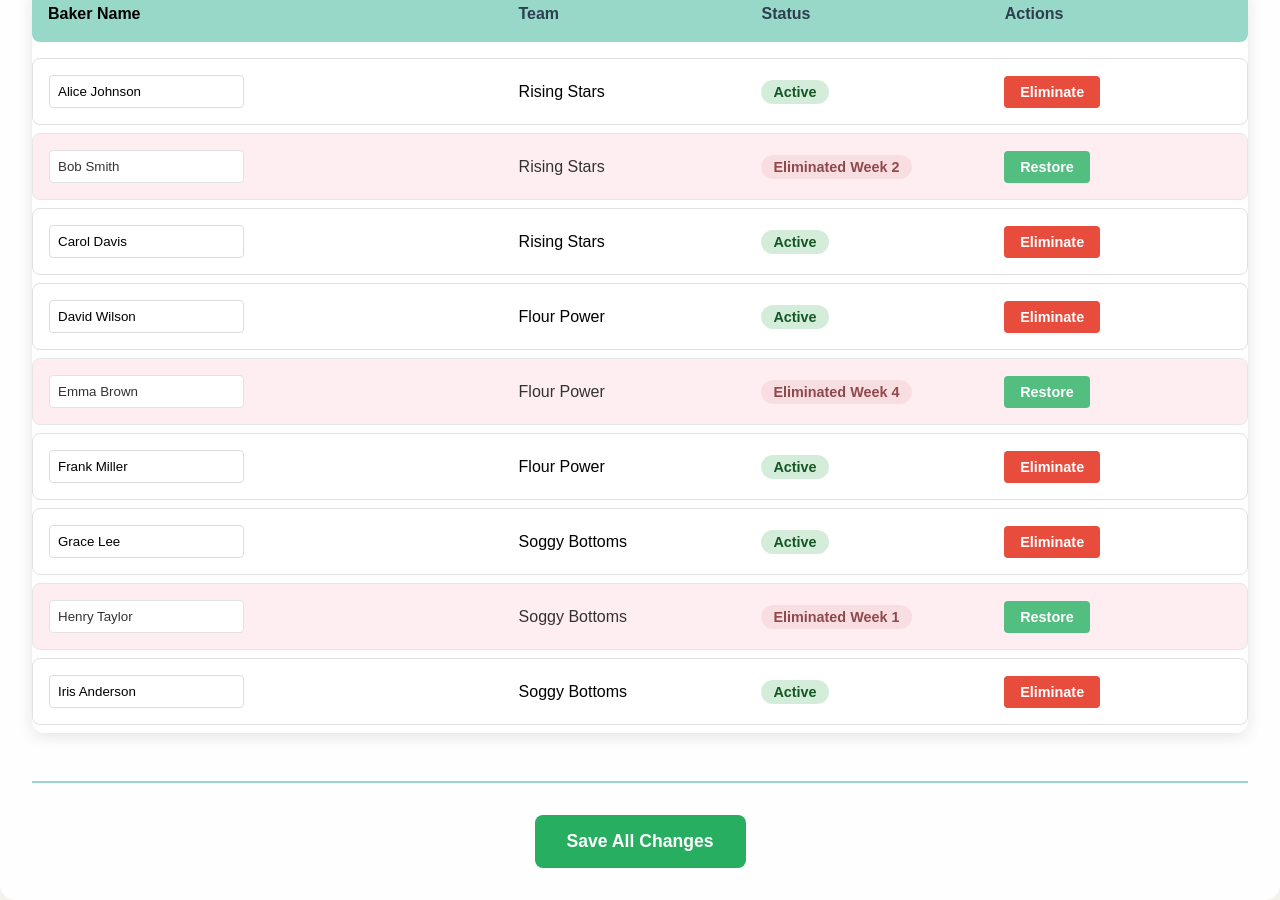
Test: TeamManagement Component › Data Persistence and Save Operations › should show loading state during save operation
(page scrolled)
Click the button "Save All Changes" at (640, 842), box [534, 815, 746, 868]
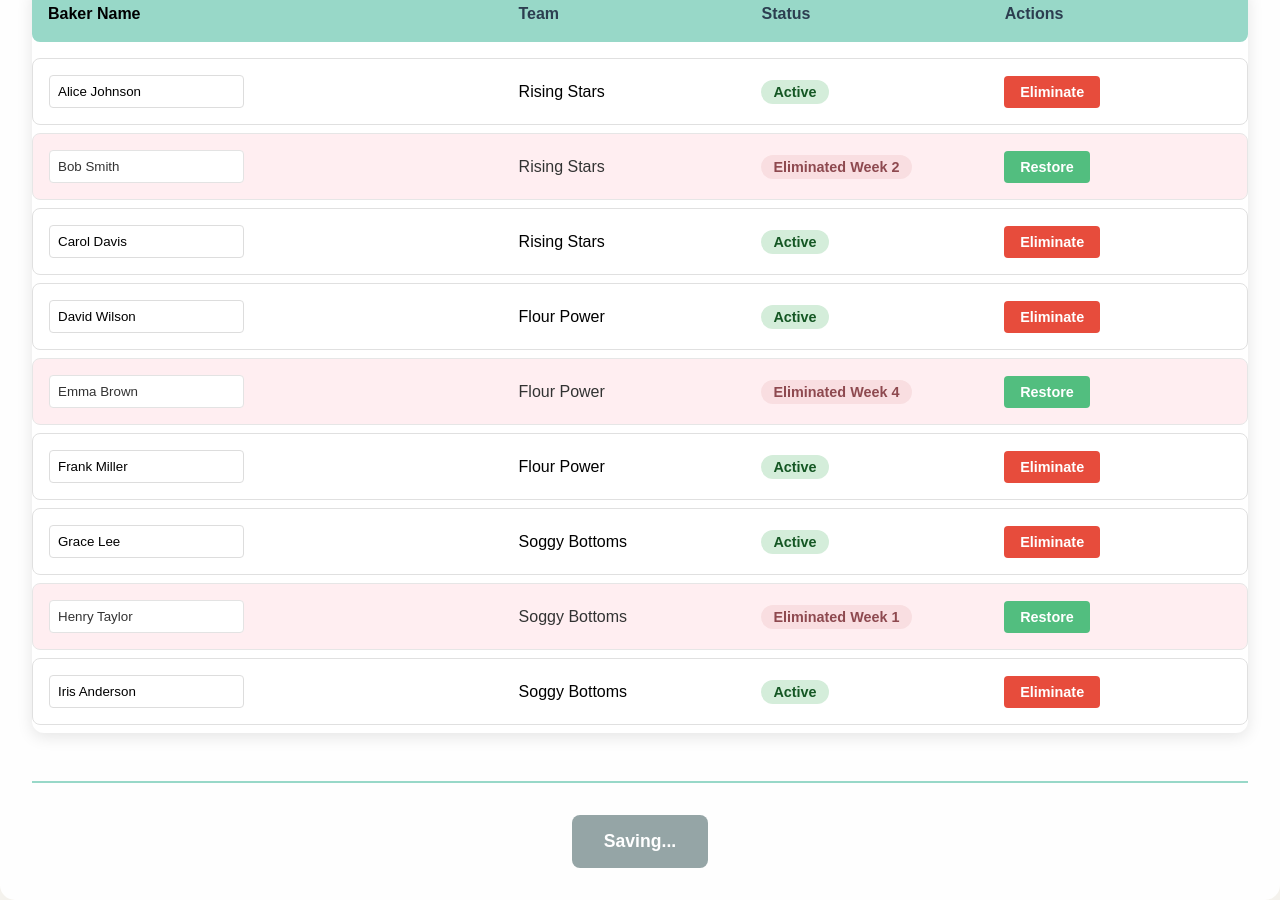
Result: the button "Saving..." is disabled at [572, 815, 708, 868]
